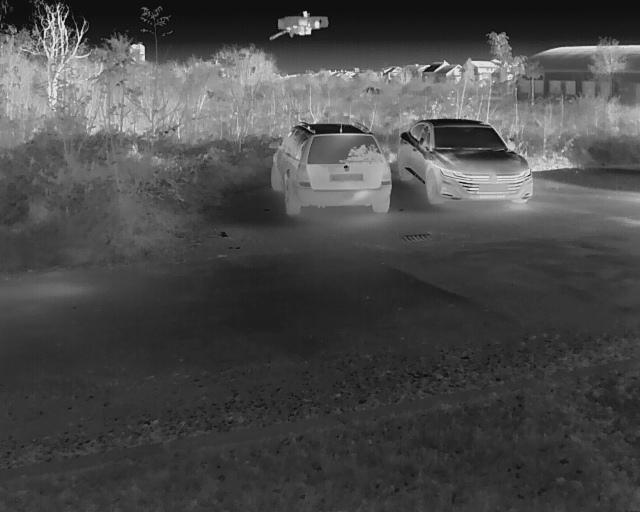drone: (257, 0, 332, 51)
